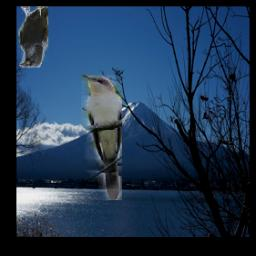Crow: (19, 6, 49, 68)
Cuckoo: (82, 76, 123, 201)
